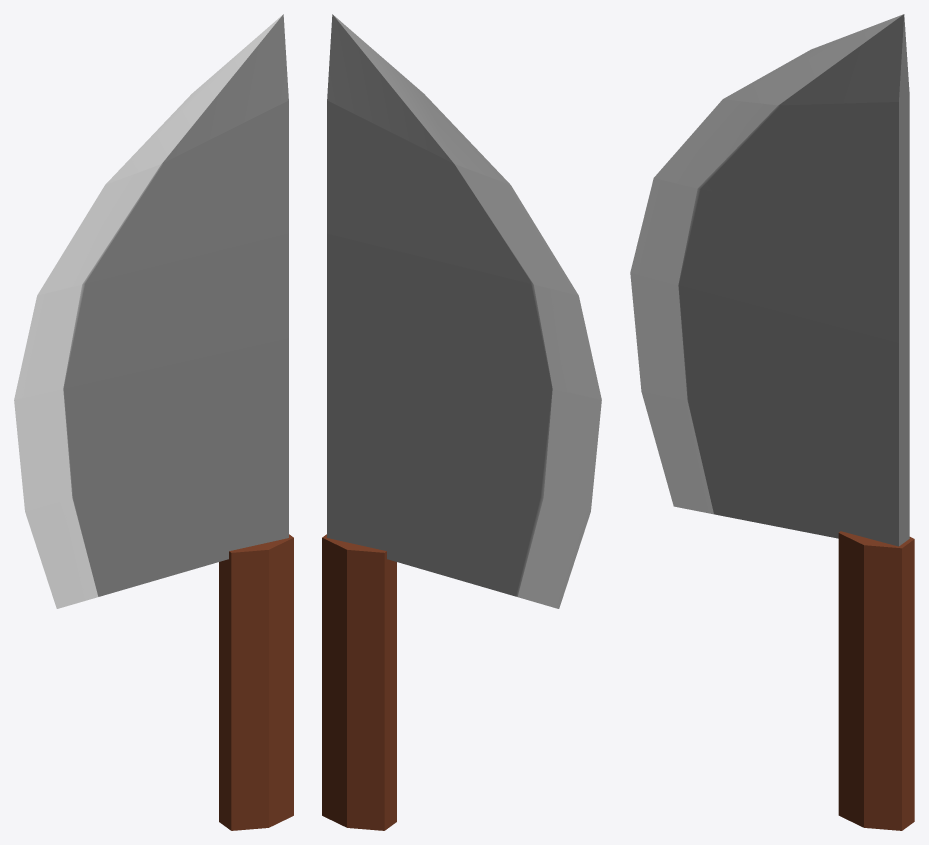
File: dao2.fbx
The picture shows the model from 3 angles, left to right: view 1: azimuth 30°, elevation 25°; view 2: azimuth 150°, elevation 25°; view 3: azimuth 330°, elevation 25°; orthographic projection.
Parts seen in each view (by area): view 1: dao2; view 2: dao2; view 3: dao2.
Part boxes in pixels (bbox=[...]): dao2: bbox=[14, 14, 293, 830]; dao2: bbox=[322, 14, 601, 830]; dao2: bbox=[630, 14, 914, 830].
Size of the model in its own units: 1.09 by 3.07 by 0.1724.
